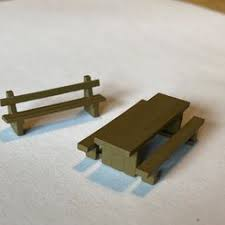obstacle: (76, 91, 204, 187), (2, 74, 105, 133)
